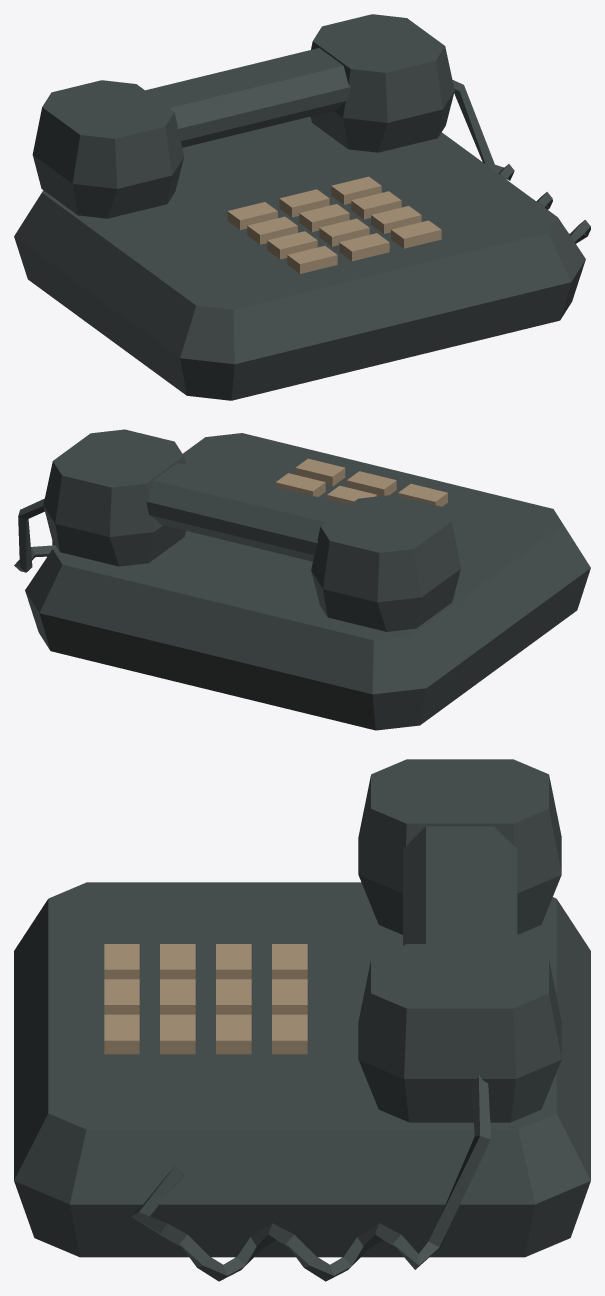
Rendered from Bell_DeskTelephone.fbx.
3 renders of one model, top to bottom at view 1: azimuth 30°, elevation 25°; view 2: azimuth 150°, elevation 25°; view 3: azimuth 270°, elevation 25°, orthographic. The views are drawn at different scales.
Parts seen in each view (by area): view 1: Bell_DeskTelephone; view 2: Bell_DeskTelephone; view 3: Bell_DeskTelephone.
Boxes of the visible parts, x1,y1,x2,y2 form: Bell_DeskTelephone: (14,14,590,400); Bell_DeskTelephone: (14,429,590,730); Bell_DeskTelephone: (14,759,590,1281).
Size of the model in its own units: 0.2915 by 0.105 by 0.227.
